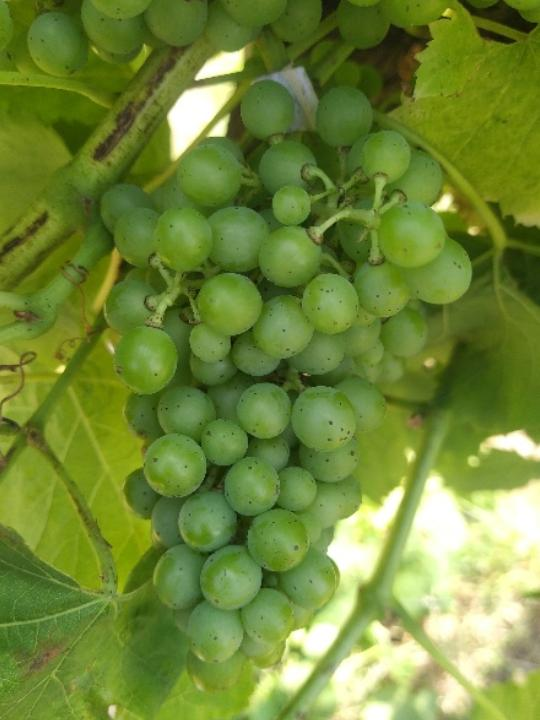grape: (102, 73, 477, 697)
